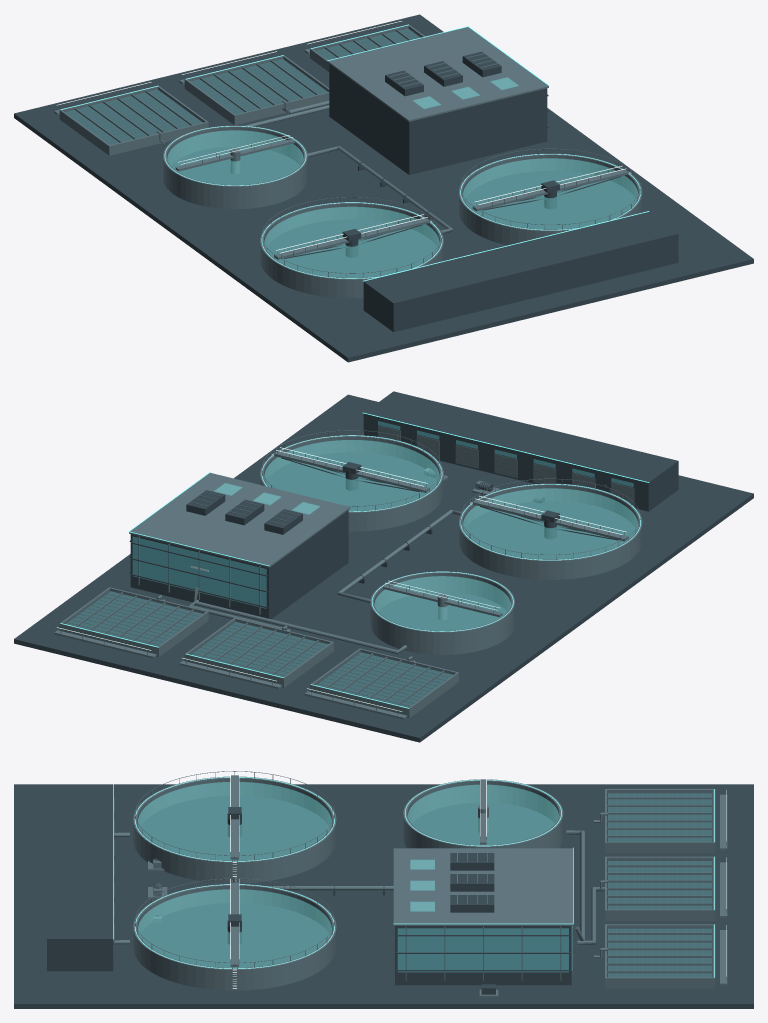
Rendered from water_treatment_plant.glb.
3 views of the same model, one above another, from view 1: azimuth 30°, elevation 25°; view 2: azimuth 150°, elevation 25°; view 3: azimuth 270°, elevation 25° (orthographic). The views are drawn at different scales.
Visible parts, largest first — view 1: water_treatment_plant_graphite, water_treatment_plant_graphite_light, water_treatment_plant_glass, water_treatment_plant_edge, water_treatment_plant_white; view 2: water_treatment_plant_graphite, water_treatment_plant_graphite_light, water_treatment_plant_glass, water_treatment_plant_edge, water_treatment_plant_white; view 3: water_treatment_plant_graphite, water_treatment_plant_graphite_light, water_treatment_plant_glass, water_treatment_plant_edge, water_treatment_plant_white.
Boxes of the visible parts, left/top/right/bottom form: water_treatment_plant_graphite: left=14, top=14, right=753, bottom=362; water_treatment_plant_graphite_light: left=54, top=22, right=642, bottom=298; water_treatment_plant_glass: left=66, top=29, right=637, bottom=277; water_treatment_plant_edge: left=60, top=24, right=649, bottom=281; water_treatment_plant_white: left=56, top=21, right=630, bottom=253; water_treatment_plant_graphite: left=14, top=391, right=753, bottom=742; water_treatment_plant_graphite_light: left=54, top=425, right=642, bottom=719; water_treatment_plant_glass: left=67, top=421, right=637, bottom=707; water_treatment_plant_edge: left=60, top=412, right=649, bottom=708; water_treatment_plant_white: left=57, top=447, right=626, bottom=711; water_treatment_plant_graphite: left=14, top=784, right=753, bottom=1008; water_treatment_plant_graphite_light: left=113, top=771, right=727, bottom=997; water_treatment_plant_glass: left=138, top=782, right=711, bottom=976; water_treatment_plant_edge: left=113, top=777, right=714, bottom=977; water_treatment_plant_white: left=230, top=771, right=726, bottom=988.
Bounding box in the file's own units: 94 × 14.89 × 134.
